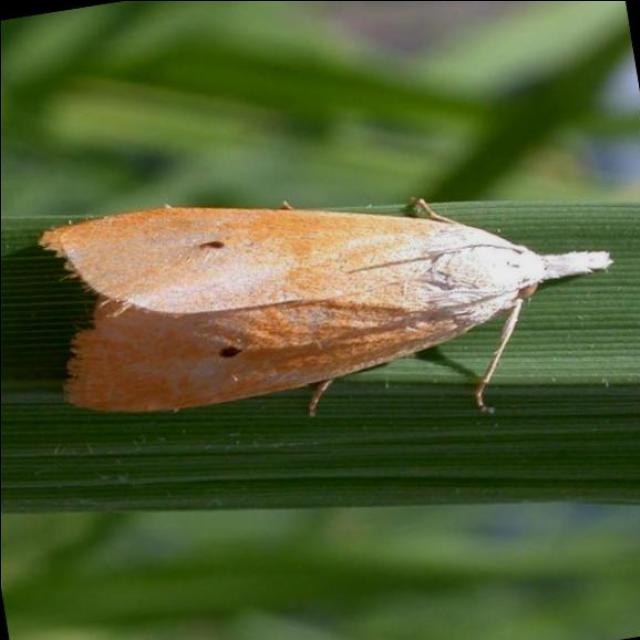stem borer: (39, 198, 610, 414)
